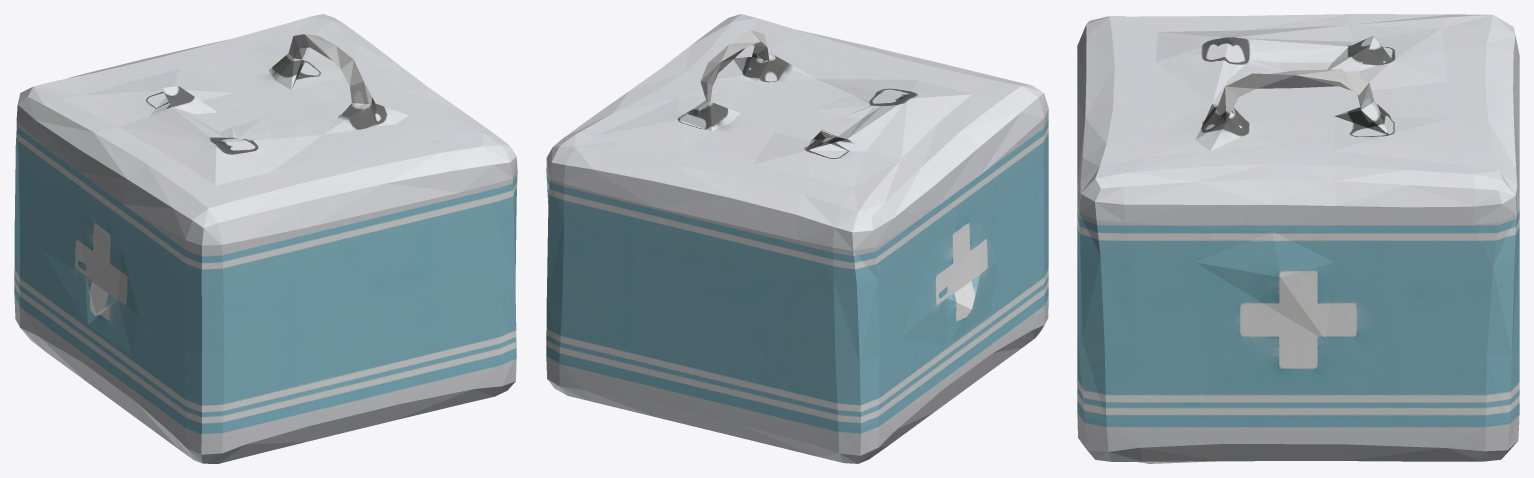
File: first-aid-kit.obj
The picture shows the model from 3 angles, left to right: view 1: azimuth 30°, elevation 25°; view 2: azimuth 150°, elevation 25°; view 3: azimuth 270°, elevation 25°; orthographic projection. The views are drawn at different scales.
Parts seen in each view (by area): view 1: tripo_node_17b9be0b-3872-4eaf-a3a0-e40119e86c5d; view 2: tripo_node_17b9be0b-3872-4eaf-a3a0-e40119e86c5d; view 3: tripo_node_17b9be0b-3872-4eaf-a3a0-e40119e86c5d.
Boxes of the visible parts, <box> form: tripo_node_17b9be0b-3872-4eaf-a3a0-e40119e86c5d: <box>14,14,517,463</box>; tripo_node_17b9be0b-3872-4eaf-a3a0-e40119e86c5d: <box>546,14,1048,463</box>; tripo_node_17b9be0b-3872-4eaf-a3a0-e40119e86c5d: <box>1077,14,1519,463</box>.
Bounding box in the file's own units: 0.9826 × 0.8666 × 0.9823.
